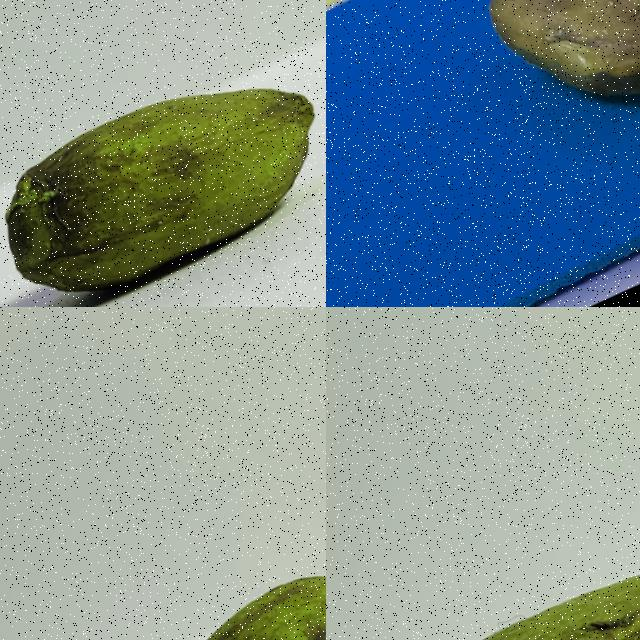Fine_cocoabeans: (0, 16, 325, 306), (326, 0, 639, 256), (366, 503, 639, 639), (0, 526, 325, 639)
